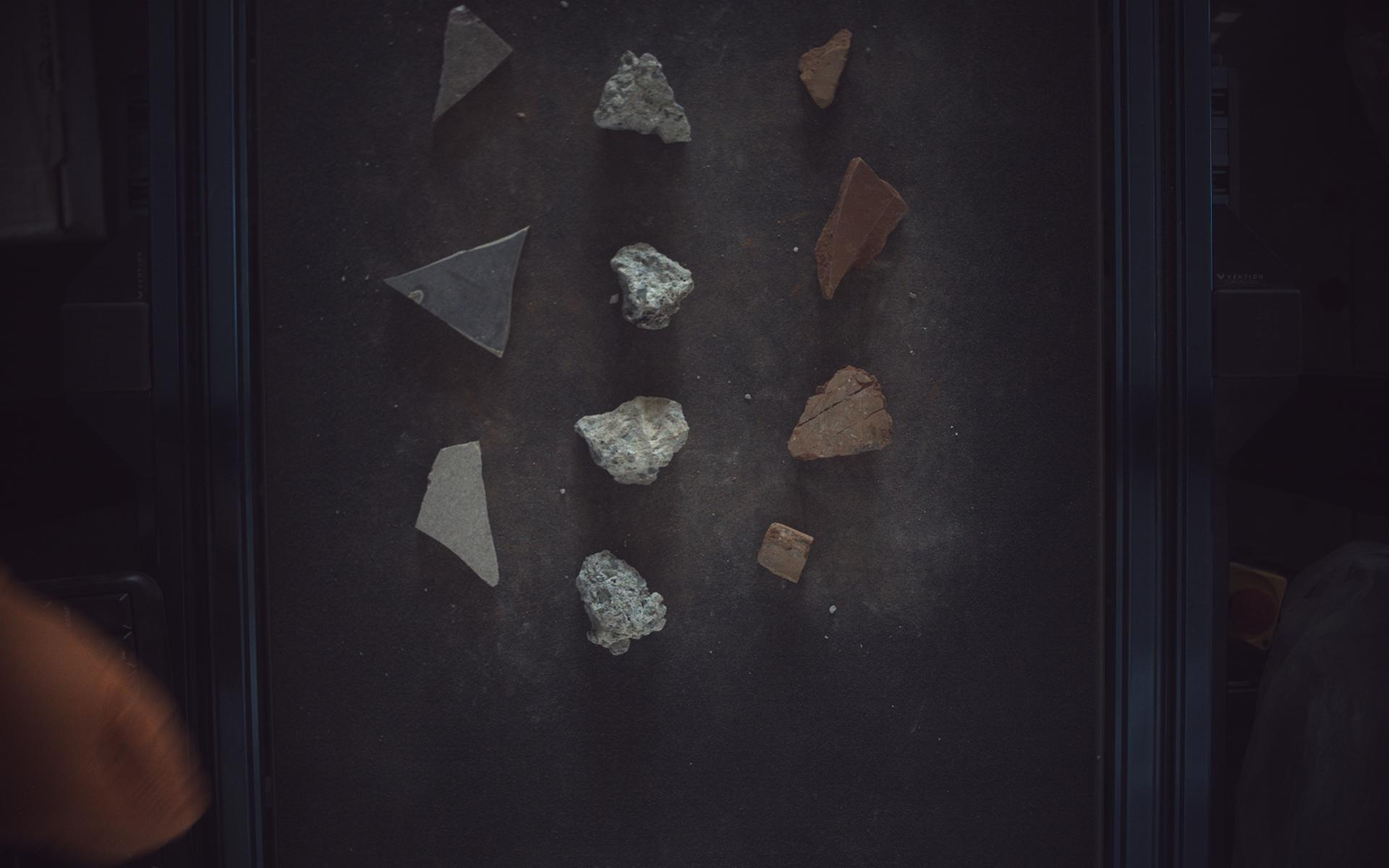brick: (817, 156, 911, 299), (789, 365, 894, 461), (800, 27, 854, 107), (759, 524, 815, 584)
concrete: (575, 396, 689, 485), (576, 551, 668, 657), (595, 50, 692, 142), (611, 242, 695, 329)
tile: (384, 227, 529, 357), (416, 441, 499, 587), (433, 4, 513, 120)
